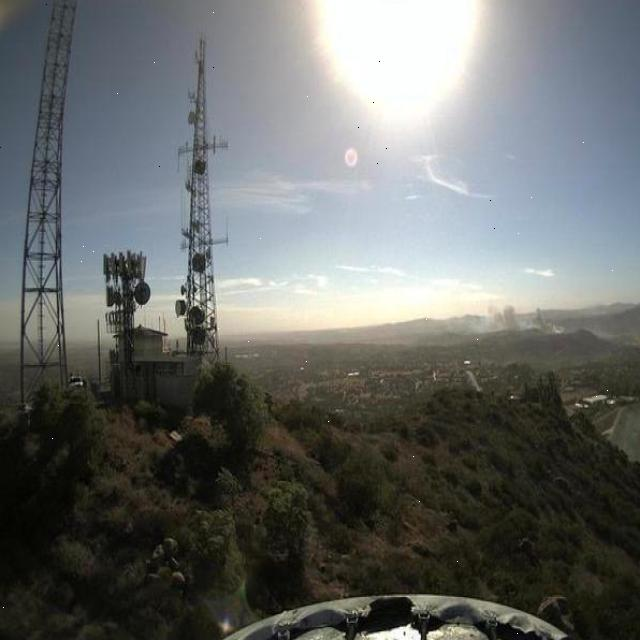smoke: (464, 295, 570, 340)
